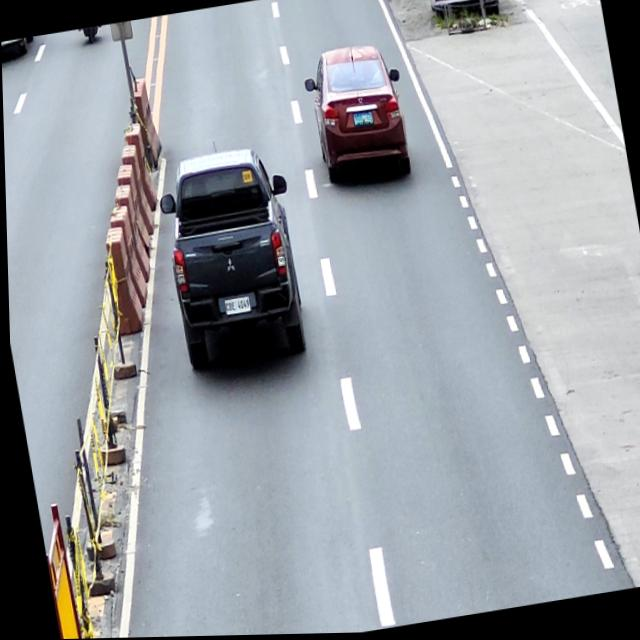Car: (152, 145, 313, 371), (300, 40, 415, 190)
License-Plate: (223, 298, 250, 316), (352, 112, 374, 129)
